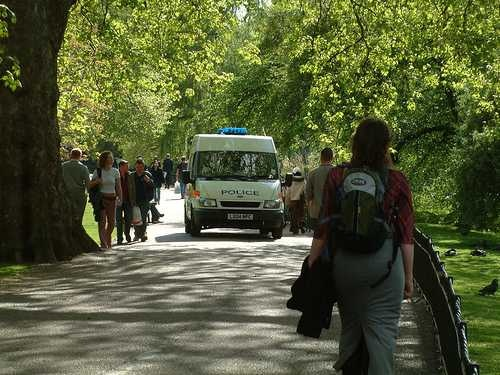Police Van: (177, 123, 287, 248)
